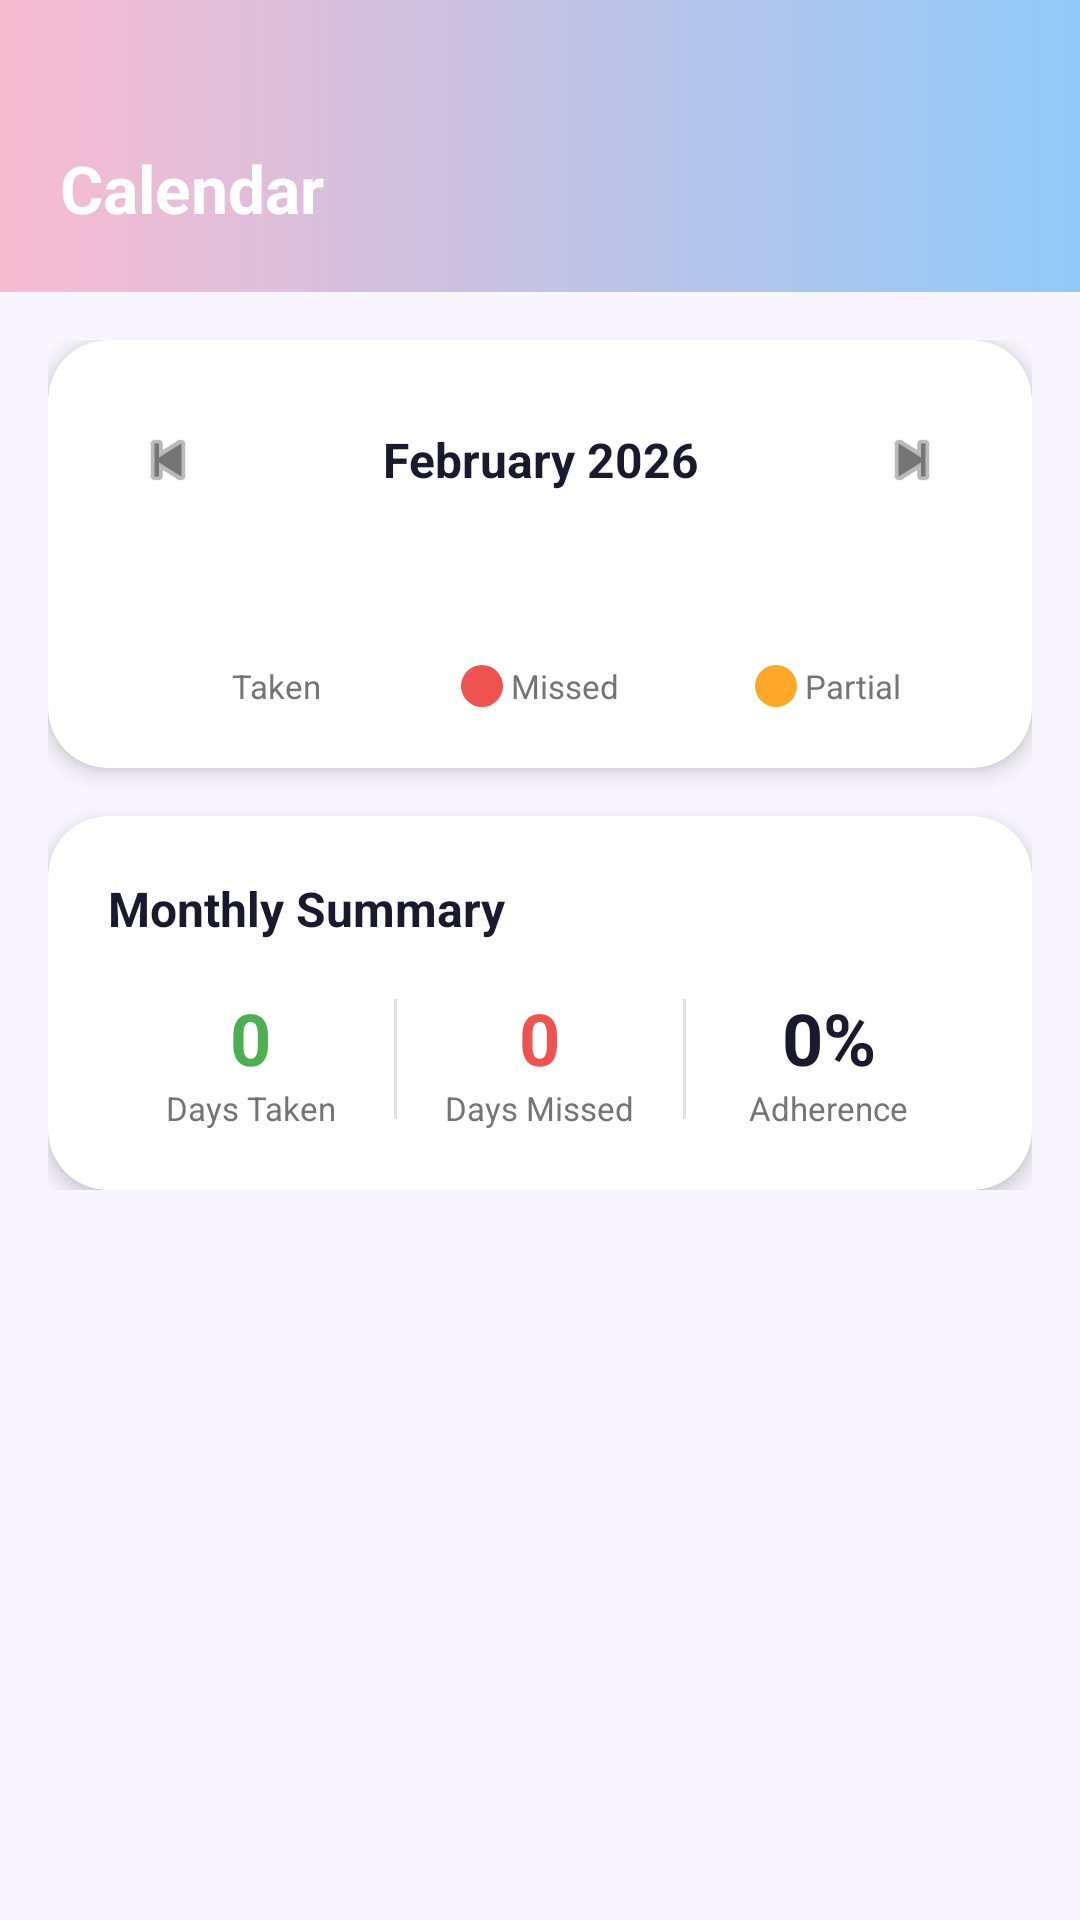

Where to tap for icons on this 1080w x 1920h app screen, as point (x, y):
next: point (912, 460)
previous: point (168, 460)
